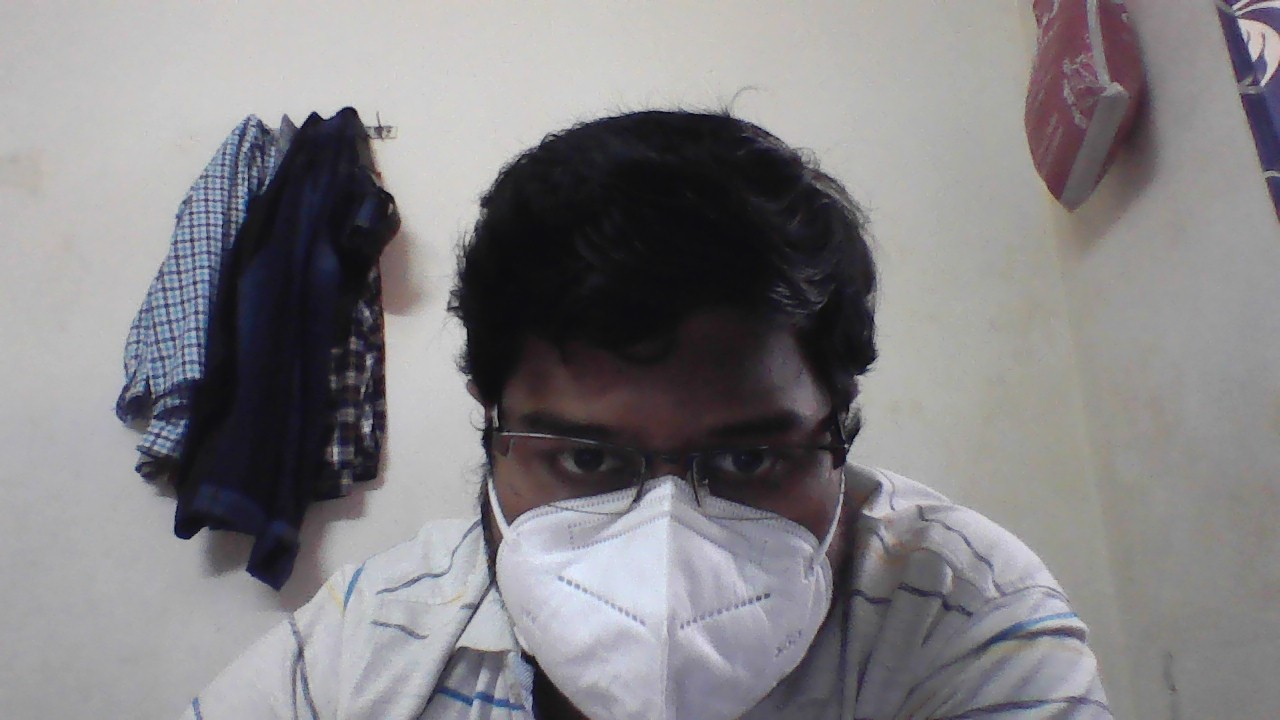Mask: (467, 469, 881, 720)
